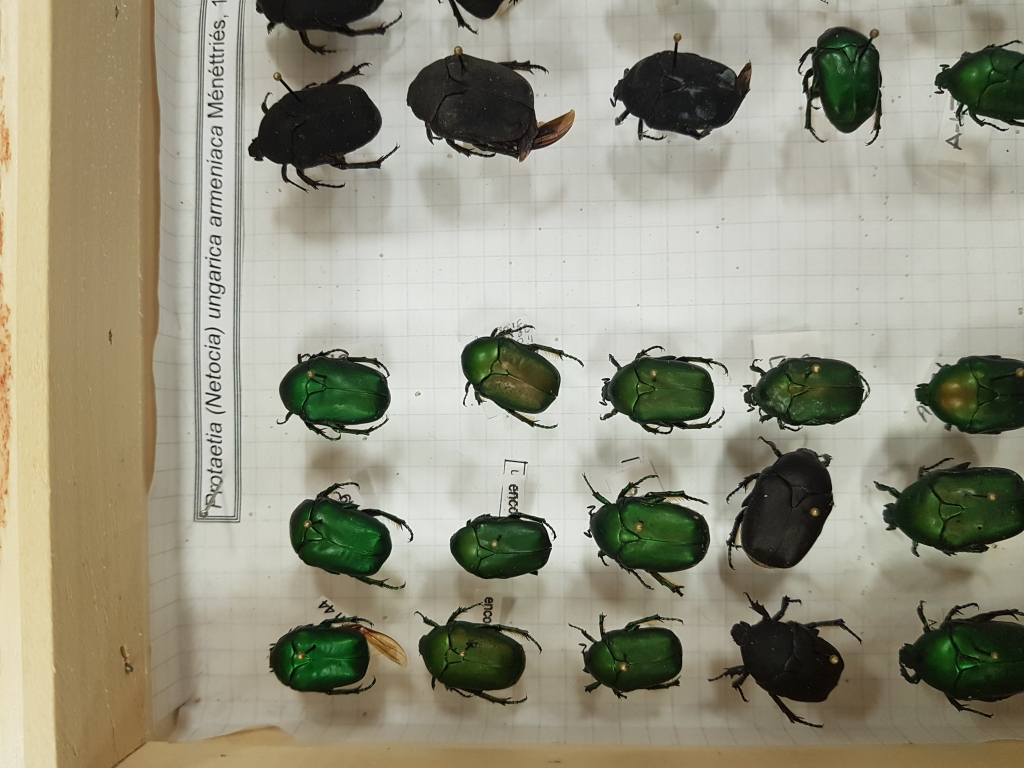Protaetia_ungarica_americana: (711, 592, 885, 729), (571, 465, 723, 598), (719, 434, 850, 588), (280, 472, 423, 592), (599, 330, 744, 448), (450, 312, 592, 430), (409, 598, 547, 708), (261, 603, 409, 704), (739, 337, 888, 435), (559, 608, 709, 703), (270, 342, 408, 442), (451, 492, 562, 587)
